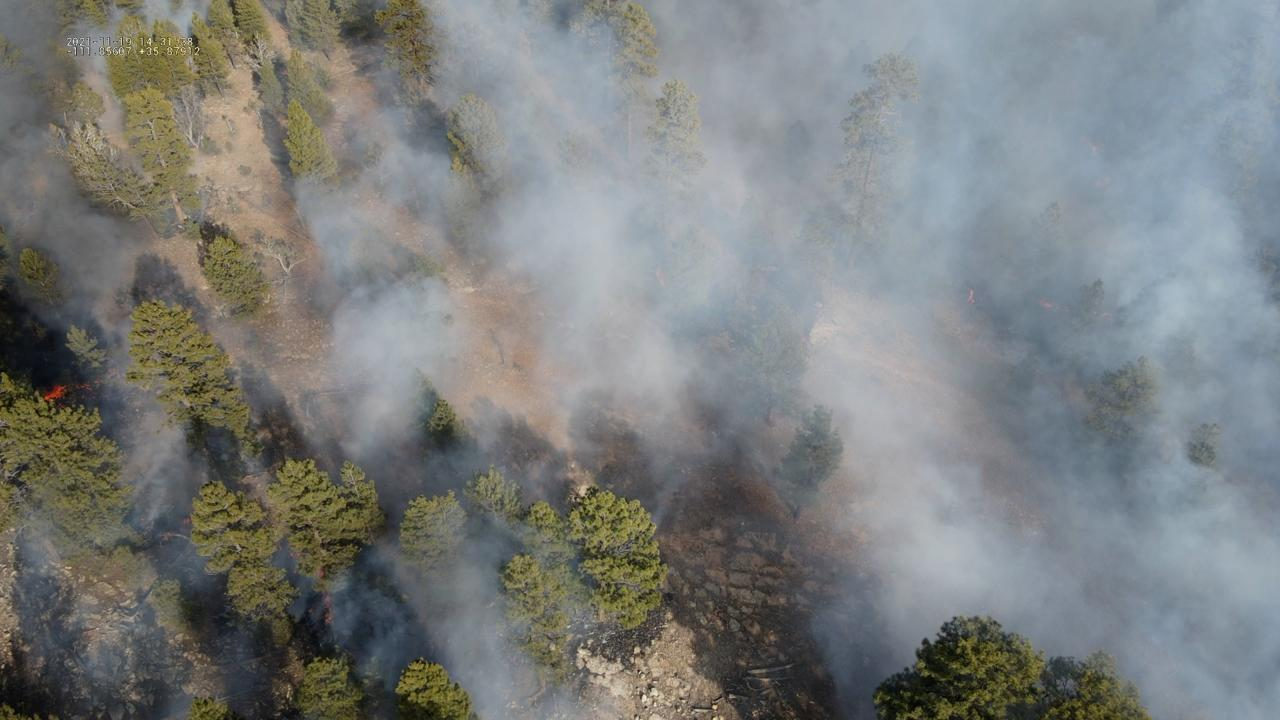fire: (318, 566, 336, 626), (34, 383, 70, 405), (965, 288, 979, 307), (73, 381, 93, 393), (1036, 298, 1055, 310)
smoke: (0, 0, 1280, 720)
